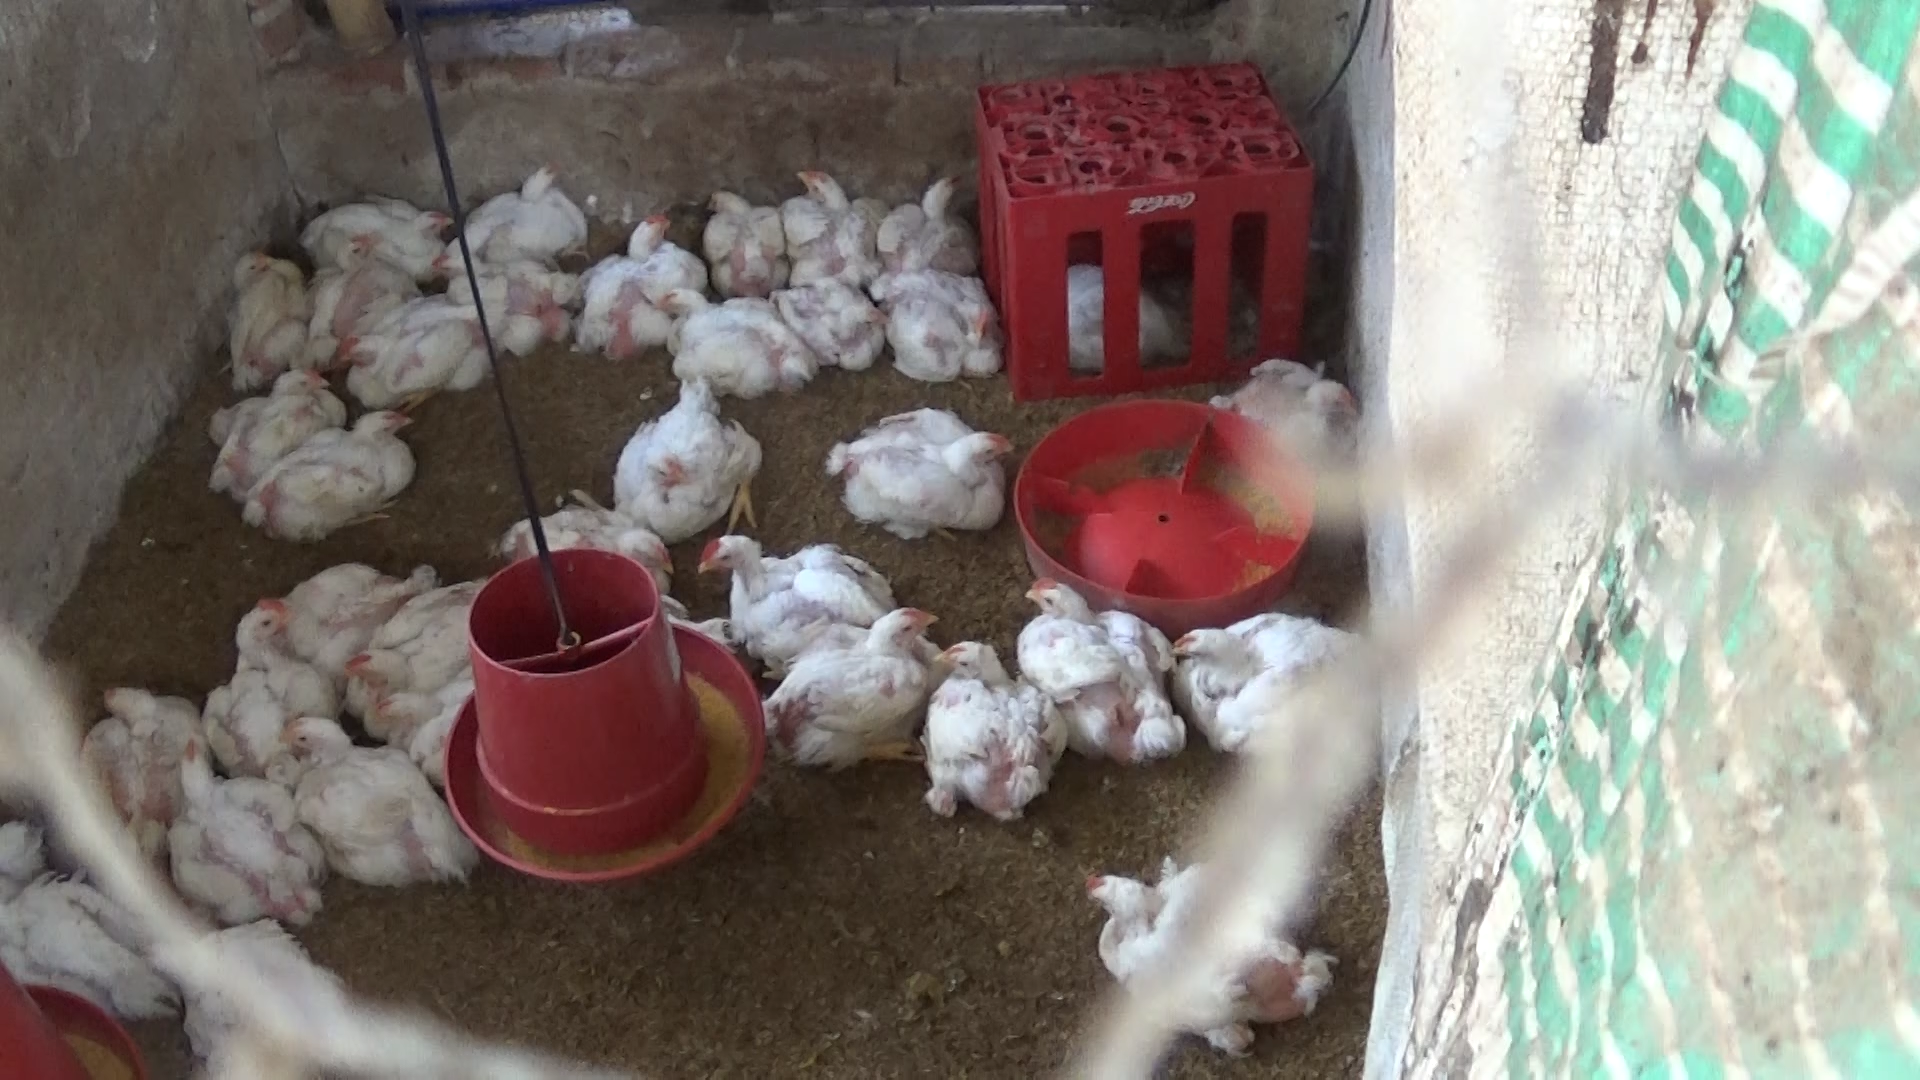Pollos: (1095, 843, 1345, 1034), (266, 696, 473, 895), (136, 741, 332, 934), (916, 636, 1076, 837), (1155, 612, 1386, 748), (769, 605, 953, 767), (1006, 576, 1178, 748), (239, 400, 430, 553), (824, 405, 1026, 537), (615, 385, 771, 543), (320, 568, 495, 707), (65, 671, 204, 843), (193, 588, 328, 752), (568, 208, 716, 355), (338, 280, 487, 425), (647, 262, 810, 396), (426, 228, 582, 367), (692, 529, 889, 636), (500, 484, 673, 593), (196, 360, 348, 481), (299, 227, 425, 349), (289, 189, 460, 272), (219, 236, 311, 386), (890, 273, 1018, 378), (771, 162, 887, 274), (694, 171, 798, 289), (458, 156, 585, 248), (782, 262, 887, 371), (881, 169, 981, 276)
